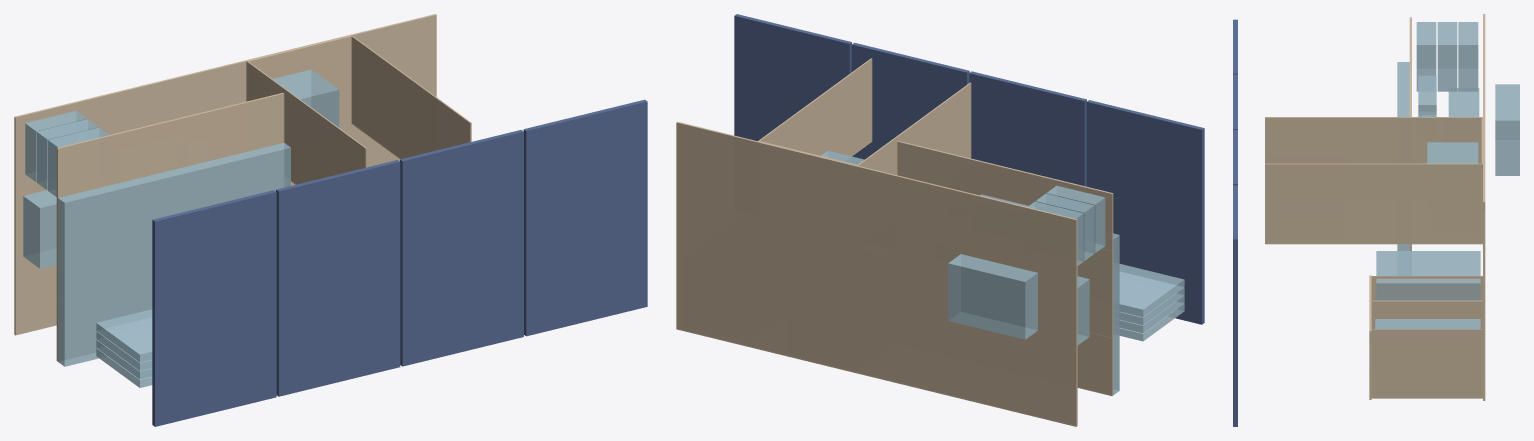
The model's file is B_conversivel_noite.glb.
The picture shows the model from 3 angles, left to right: view 1: azimuth 30°, elevation 25°; view 2: azimuth 150°, elevation 25°; view 3: azimuth 270°, elevation 25°; orthographic projection. The views are drawn at different scales.
Visible parts, largest first — view 1: FVfixo__29_MAXEON_1, FVfixo__30_MAXEON_2, FVfixo__32_MAXEON_4, FVfixo__31_MAXEON_3, equipamento__17_cama_conversivel_colchao, madeira__18_piso, madeira__27_assento_1.274, madeira__21_parede_banho2, madeira__20_parede_banho, madeira__22_base_banho, equipamento__6_tanque_limpa, equipamento__11_portatil_bolsa_4 (+4 smaller); view 2: madeira__18_piso, FVfixo__29_MAXEON_1, FVfixo__30_MAXEON_2, FVfixo__32_MAXEON_4, FVfixo__31_MAXEON_3, equipamento__7_tanque_cinza, madeira__27_assento_1.274, madeira__21_parede_banho2, madeira__20_parede_banho, equipamento__11_portatil_bolsa_4, madeira__28_ponte_cama, madeira__26_assento_0.02 (+8 smaller); view 3: madeira__21_parede_banho2, madeira__20_parede_banho, madeira__25_divisoria_3.57, equipamento__15_lava_seca, madeira__23_divisoria_2.54, equipamento__7_tanque_cinza, madeira__24_divisoria_3.02, equipamento__12_US5000_1, equipamento__13_US5000_2, FVfixo__32_MAXEON_4, equipamento__14_US5000_3, equipamento__0_geladeira_AC (+10 smaller).
Boxes of the visible parts, <box> form: FVfixo__29_MAXEON_1: <box>152,190,276,426</box>; FVfixo__30_MAXEON_2: <box>276,160,400,396</box>; FVfixo__32_MAXEON_4: <box>523,99,647,336</box>; FVfixo__31_MAXEON_3: <box>400,130,523,366</box>; equipamento__17_cama_conversivel_colchao: <box>58,143,290,366</box>; madeira__18_piso: <box>14,14,436,335</box>; madeira__27_assento_1.274: <box>56,93,284,209</box>; madeira__21_parede_banho2: <box>351,35,471,159</box>; madeira__20_parede_banho: <box>246,61,366,184</box>; madeira__22_base_banho: <box>248,36,351,126</box>; equipamento__6_tanque_limpa: <box>23,190,56,268</box>; equipamento__11_portatil_bolsa_4: <box>96,309,152,362</box>; madeira__18_piso: <box>676,121,1077,426</box>; FVfixo__29_MAXEON_1: <box>1086,100,1204,324</box>; FVfixo__30_MAXEON_2: <box>969,71,1086,186</box>; FVfixo__32_MAXEON_4: <box>734,14,851,141</box>; FVfixo__31_MAXEON_3: <box>851,42,969,159</box>; equipamento__7_tanque_cinza: <box>948,254,1037,339</box>; madeira__27_assento_1.274: <box>897,141,1113,251</box>; madeira__21_parede_banho2: <box>758,58,872,156</box>; madeira__20_parede_banho: <box>857,82,971,174</box>; equipamento__11_portatil_bolsa_4: <box>1119,264,1184,316</box>; madeira__28_ponte_cama: <box>1077,249,1113,338</box>; madeira__26_assento_0.02: <box>1077,333,1113,395</box>; madeira__21_parede_banho2: <box>1265,163,1482,244</box>; madeira__20_parede_banho: <box>1265,117,1482,163</box>; madeira__25_divisoria_3.57: <box>1371,329,1482,398</box>; equipamento__15_lava_seca: <box>1376,251,1480,300</box>; madeira__23_divisoria_2.54: <box>1371,276,1482,300</box>; equipamento__7_tanque_cinza: <box>1495,84,1519,175</box>; madeira__24_divisoria_3.02: <box>1371,300,1482,329</box>; equipamento__12_US5000_1: <box>1458,22,1478,91</box>; equipamento__13_US5000_2: <box>1437,22,1457,91</box>; FVfixo__32_MAXEON_4: <box>1233,185,1237,426</box>; equipamento__14_US5000_3: <box>1416,22,1436,91</box>; equipamento__0_geladeira_AC: <box>1375,319,1480,329</box>.
Size of the model in its own units: 4.27 by 1.79 by 2.34.
